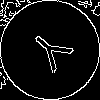Y: (25, 25, 82, 81)
